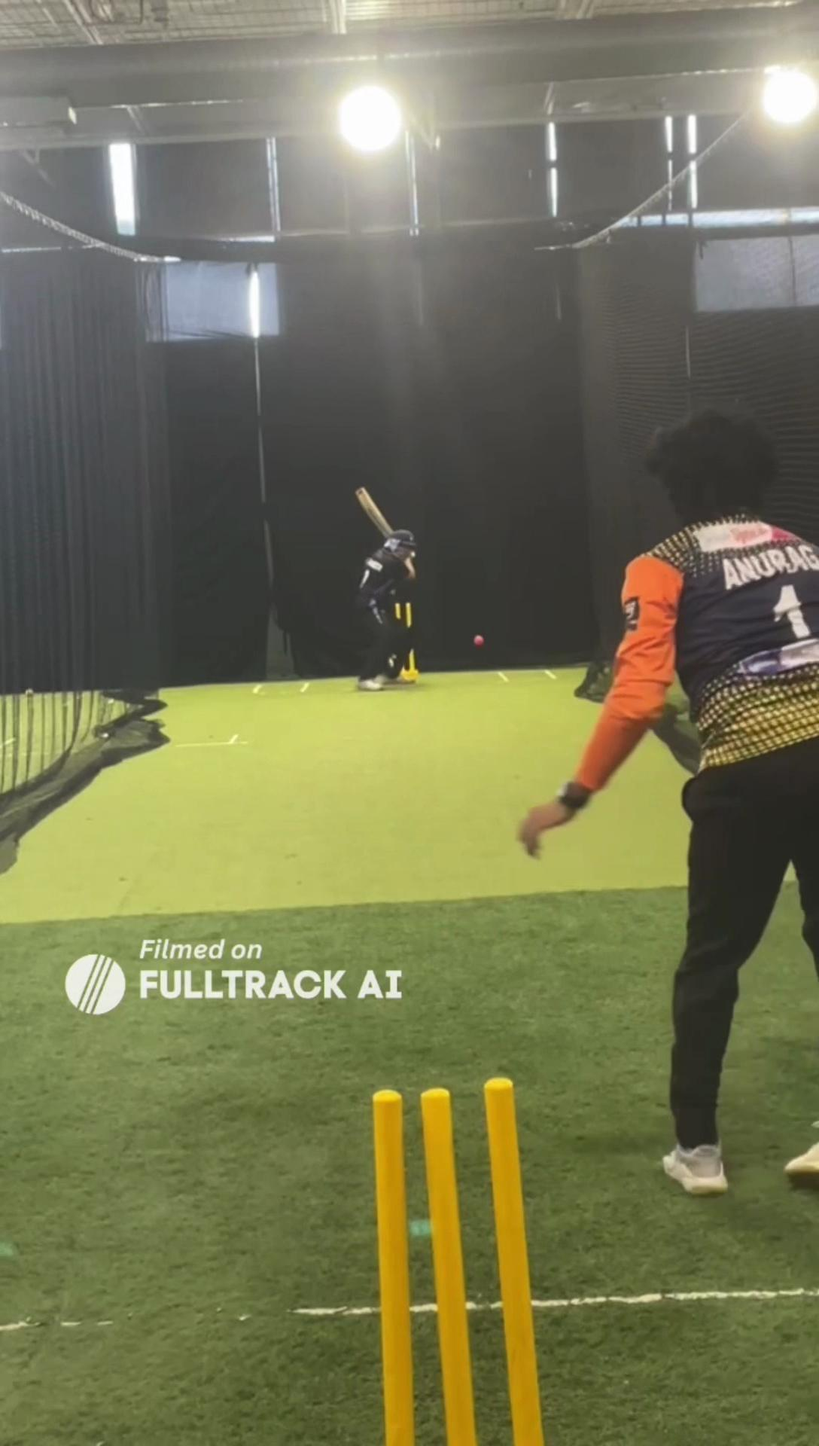ball: (471, 632, 487, 649)
